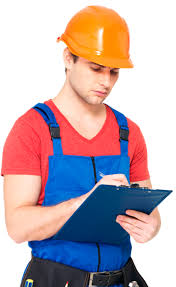Person_wearing_helmet: (55, 0, 135, 71)
